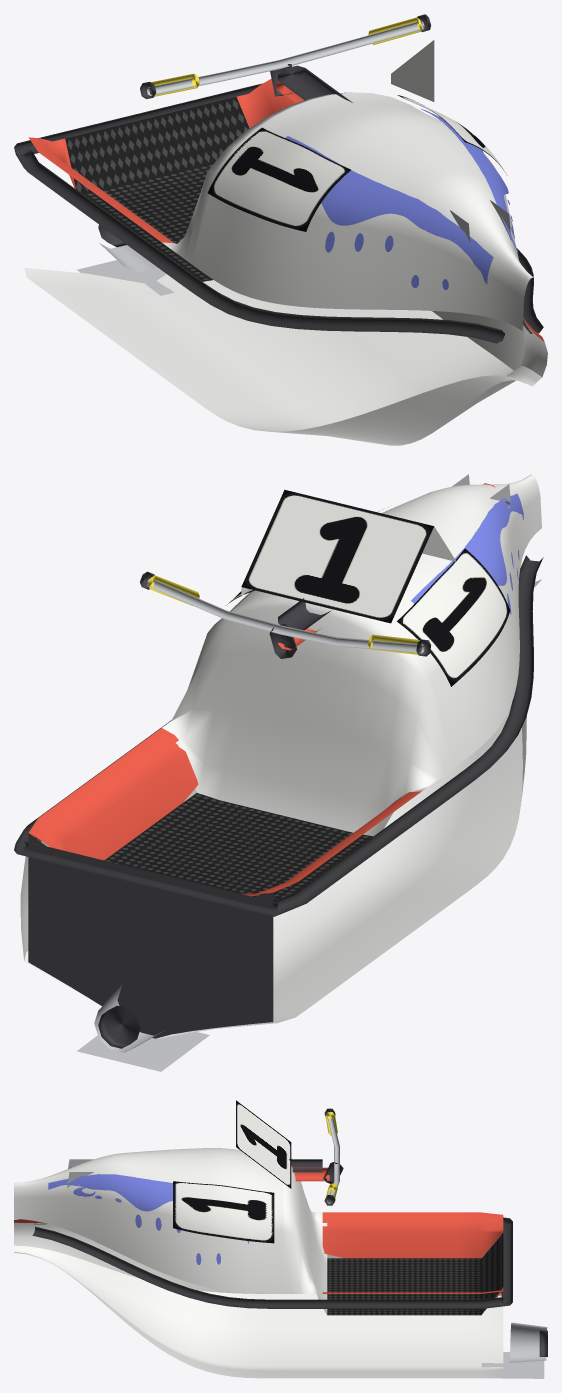
The model's file is standup_lo.glb.
The picture shows the model from 3 angles, top to bottom: view 1: azimuth 30°, elevation 25°; view 2: azimuth 150°, elevation 25°; view 3: azimuth 270°, elevation 25°; orthographic projection. The views are drawn at different scales.
Parts seen in each view (by area): view 1: Hull, Plate1, Bars, Pole; view 2: Hull, Plate1, Bars, Pole; view 3: Hull, Plate1, Bars, Pole.
Boxes of the visible parts, x1,y1,x2,y2 form: Hull: [14, 40, 547, 445]; Plate1: [207, 95, 506, 231]; Bars: [140, 14, 431, 98]; Pole: [276, 65, 352, 103]; Hull: [14, 474, 543, 1071]; Plate1: [226, 489, 510, 686]; Bars: [140, 571, 431, 658]; Pole: [278, 483, 495, 650]; Hull: [14, 1148, 547, 1378]; Plate1: [173, 1100, 291, 1243]; Bars: [323, 1108, 343, 1205]; Pole: [69, 1159, 329, 1181].
Size of the model in its own units: 0.88 by 1.11 by 2.22.
12 materials, 3 textured.
